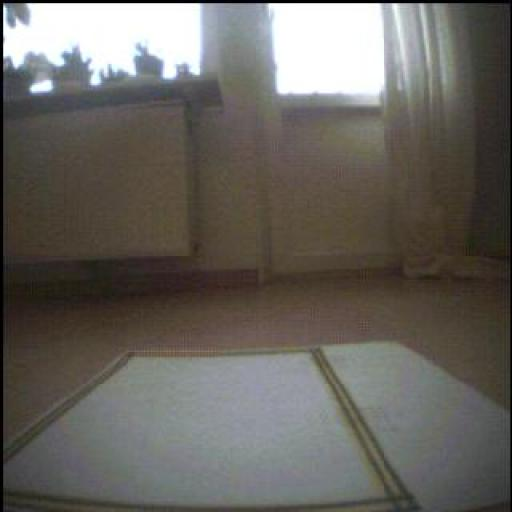Pad: (5, 343, 512, 512), (4, 348, 420, 512)
